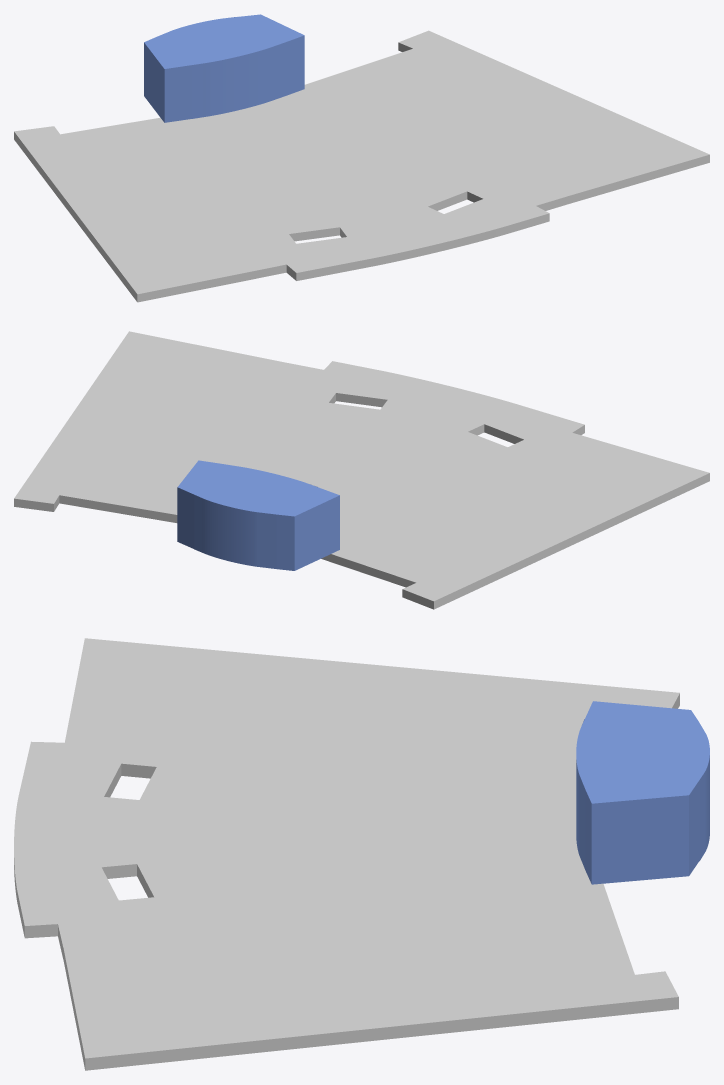
The model's file is searchcentermodel_4f.glb.
The picture shows the model from 3 angles, top to bottom: view 1: azimuth 30°, elevation 25°; view 2: azimuth 150°, elevation 25°; view 3: azimuth 270°, elevation 25°; orthographic projection. The views are drawn at different scales.
Parts seen in each view (by area): view 1: 4f_base_base, room_S; view 2: 4f_base_base, room_S; view 3: 4f_base_base, room_S.
Boxes of the visible parts, bbox=[...] form: 4f_base_base: bbox=[14, 30, 709, 302]; room_S: bbox=[144, 14, 304, 122]; 4f_base_base: bbox=[14, 331, 709, 609]; room_S: bbox=[177, 460, 339, 570]; 4f_base_base: bbox=[14, 638, 679, 1070]; room_S: bbox=[576, 701, 709, 884].
Bounding box in the file's own units: 113 × 11.66 × 78.95.
